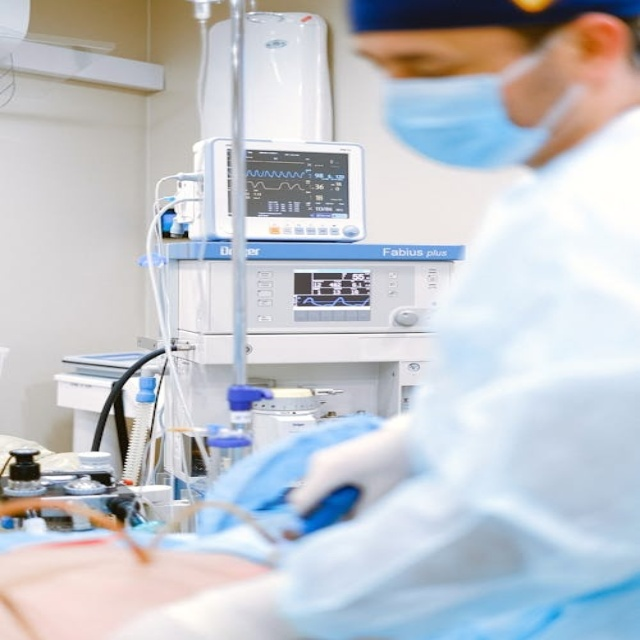Mascara: (382, 36, 580, 170)
Sin_gafas: (344, 32, 507, 79)
